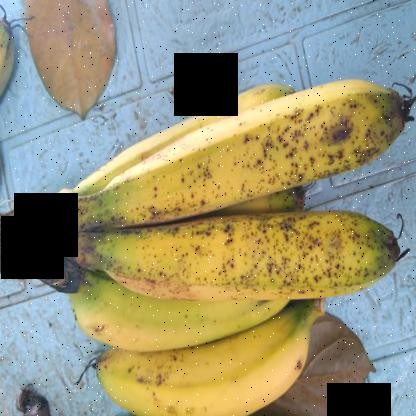ripe: (63, 66, 414, 202), (112, 193, 408, 301), (81, 315, 326, 415)
